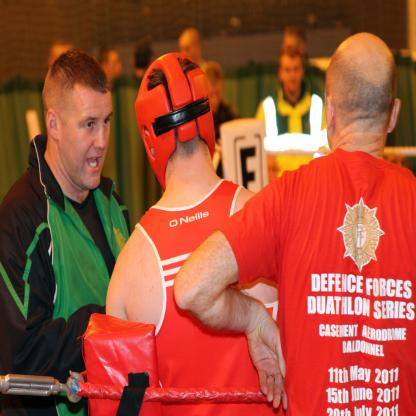Helmet: (127, 51, 222, 192)
